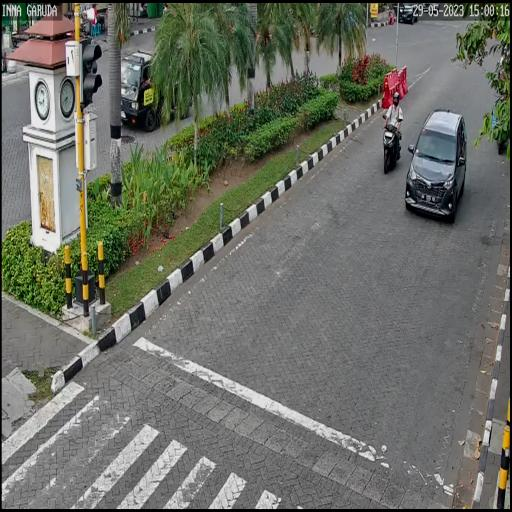mobil: (406, 108, 466, 222)
motor: (380, 114, 403, 173)
